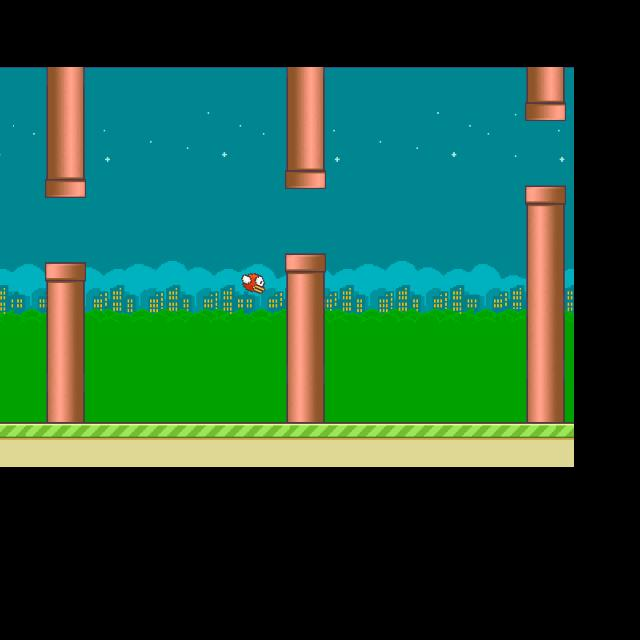bird: (241, 273, 265, 294)
pipedown: (525, 186, 567, 417), (45, 262, 87, 410), (286, 254, 325, 413)
pipeup: (46, 79, 86, 198), (284, 75, 325, 189), (525, 70, 565, 121)
